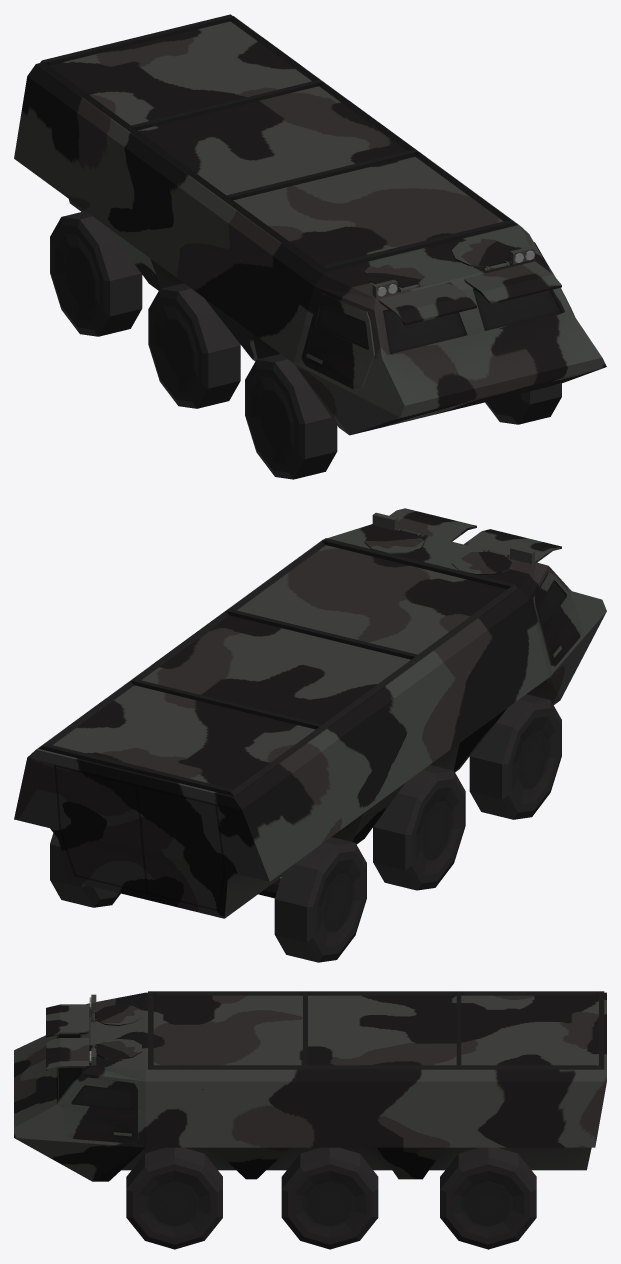
Rendered from XA180_APC.fbx.
3 views of the same model, one above another, from view 1: azimuth 30°, elevation 25°; view 2: azimuth 150°, elevation 25°; view 3: azimuth 270°, elevation 25° (orthographic). The views are drawn at different scales.
Parts seen in each view (by area): view 1: XA180_Body, XA180_Wheel_Right (×3), XA180_Rack, XA180_Door_Right, XA180_Cover, XA180_Wheel_Left, XA180_Hatch_Driver, XA180_Hatch_Passenger; view 2: XA180_Body, XA180_Wheel_Right (×3), XA180_Rack, XA180_Cover, XA180_Door_Right, XA180_Wheel_Left, XA180_Hatch_Driver, XA180_Hatch_Passenger; view 3: XA180_Body, XA180_Wheel_Left (×3), XA180_Rack, XA180_Door_Left, XA180_Cover, XA180_Hatch_Passenger, XA180_Hatch_Driver.
Boxes of the visible parts, box(x1,y1,x2,y2) form: XA180_Body: box(14, 16, 606, 435); XA180_Wheel_Right (×3): box(50, 211, 337, 479); XA180_Rack: box(38, 14, 517, 272); XA180_Door_Right: box(301, 293, 374, 389); XA180_Cover: box(378, 261, 561, 325); XA180_Wheel_Left: box(485, 383, 561, 424); XA180_Hatch_Driver: box(451, 238, 511, 270); XA180_Hatch_Passenger: box(364, 259, 424, 292); XA180_Body: box(14, 524, 606, 918); XA180_Wheel_Right (×3): box(274, 694, 561, 962); XA180_Rack: box(38, 538, 517, 796); XA180_Cover: box(389, 508, 561, 562); XA180_Door_Right: box(533, 572, 582, 666); XA180_Wheel_Left: box(50, 833, 120, 907); XA180_Hatch_Driver: box(364, 528, 424, 553); XA180_Hatch_Passenger: box(451, 549, 511, 574); XA180_Body: box(14, 992, 606, 1181); XA180_Wheel_Left (×3): box(126, 1147, 536, 1249); XA180_Rack: box(148, 991, 604, 1069); XA180_Door_Left: box(64, 1077, 138, 1143); XA180_Cover: box(46, 1004, 89, 1070); XA180_Hatch_Passenger: box(91, 1004, 141, 1025); XA180_Hatch_Driver: box(91, 1039, 141, 1060).
Bounding box in the file's own units: 10.79 × 8.5 × 26.34.
